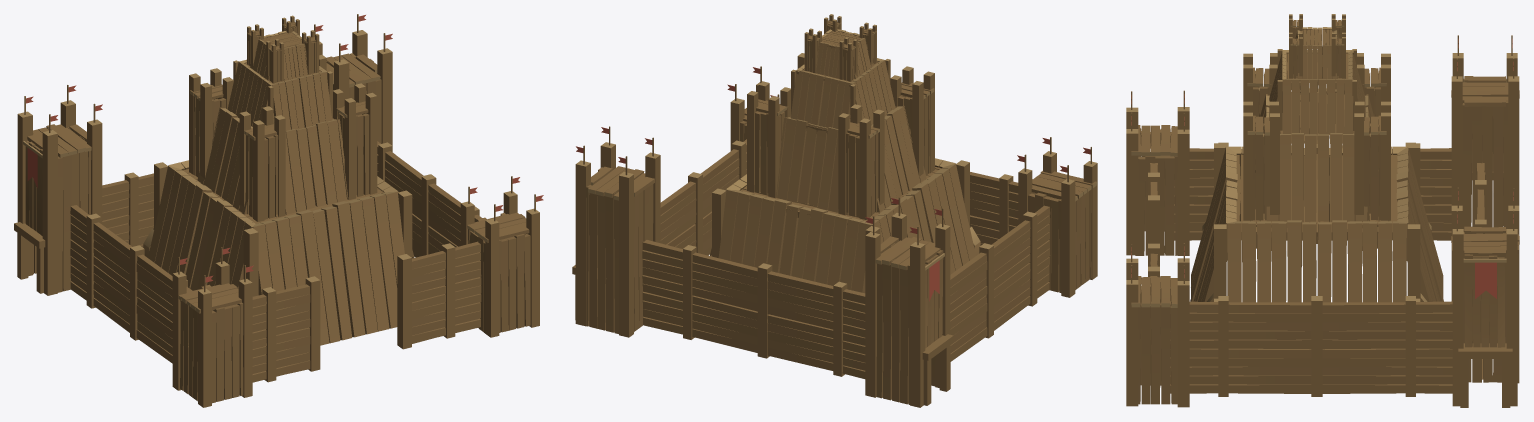
File: quaternius-ultimate-fantasy-rts-wonder-firstage-level-3.glb
3 views of the same model, side by side, from view 1: azimuth 30°, elevation 25°; view 2: azimuth 150°, elevation 25°; view 3: azimuth 270°, elevation 25° (orthographic). The views are drawn at different scales.
Parts seen in each view (by area): view 1: Wonder_FirstAge_Level3; view 2: Wonder_FirstAge_Level3; view 3: Wonder_FirstAge_Level3.
Part boxes in pixels (<box>): Wonder_FirstAge_Level3: <box>14,14,543,407</box>; Wonder_FirstAge_Level3: <box>572,14,1097,407</box>; Wonder_FirstAge_Level3: <box>1126,14,1519,407</box>.
Size of the model in its own units: 2.2 by 1.6 by 1.95.
